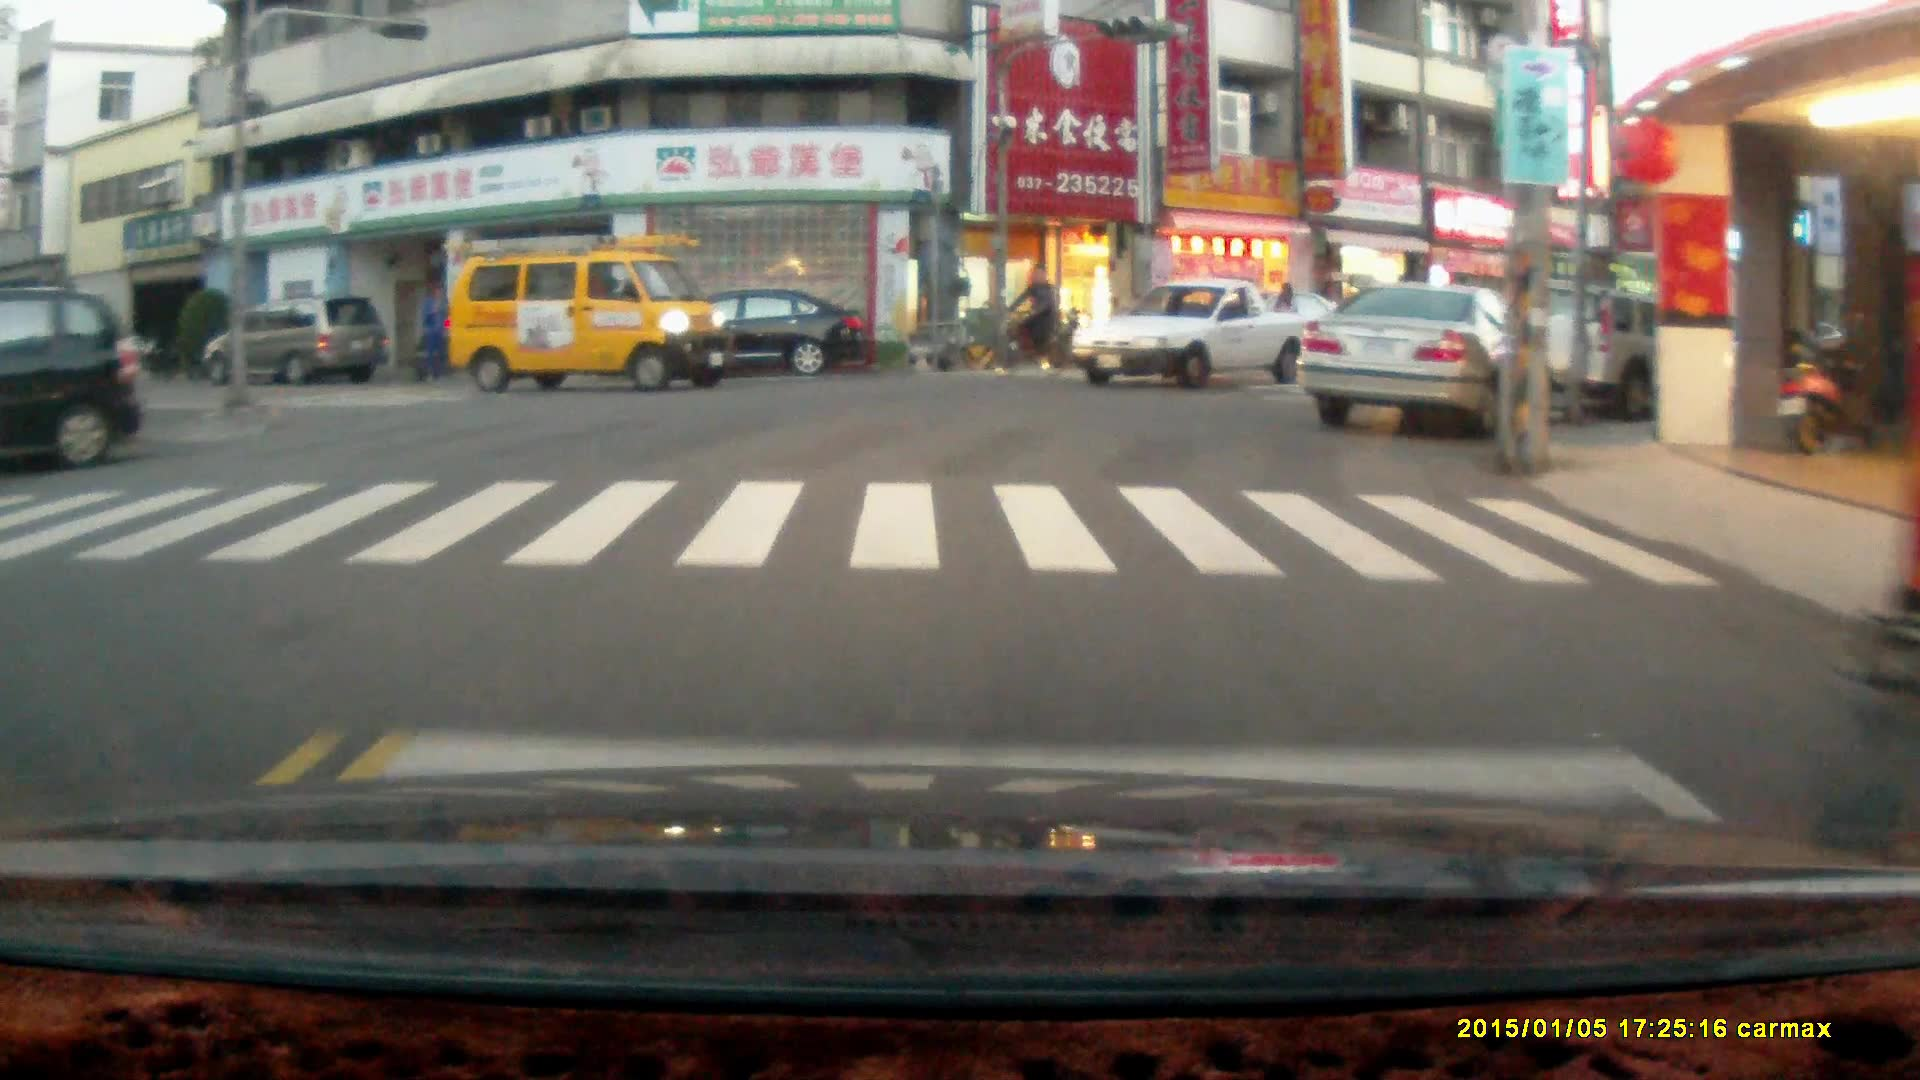pedestrian: (417, 282, 450, 378)
rider: (985, 261, 1067, 379)
vehicle: (449, 234, 725, 397), (1299, 280, 1556, 439), (1498, 284, 1745, 427), (1068, 273, 1329, 397), (3, 289, 143, 468), (642, 296, 870, 384), (202, 295, 391, 392)
